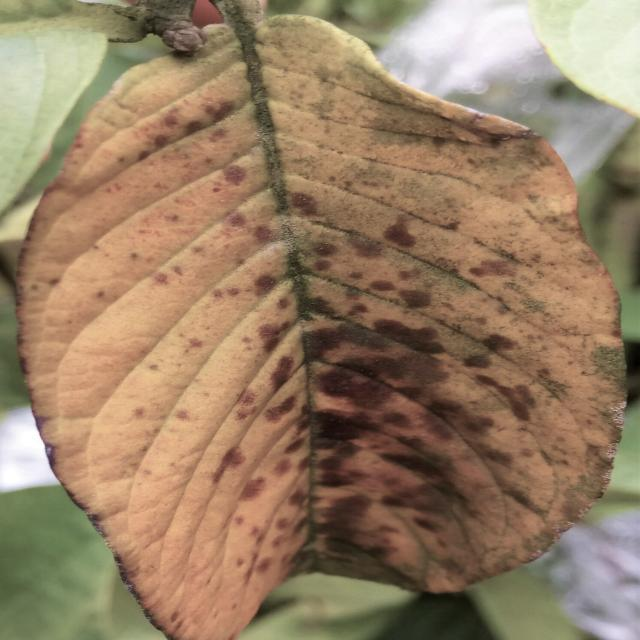Red Rust: (18, 0, 622, 640)
